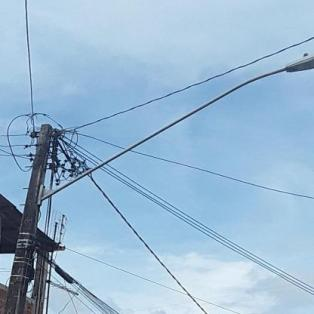Poste: (0, 111, 83, 314)
